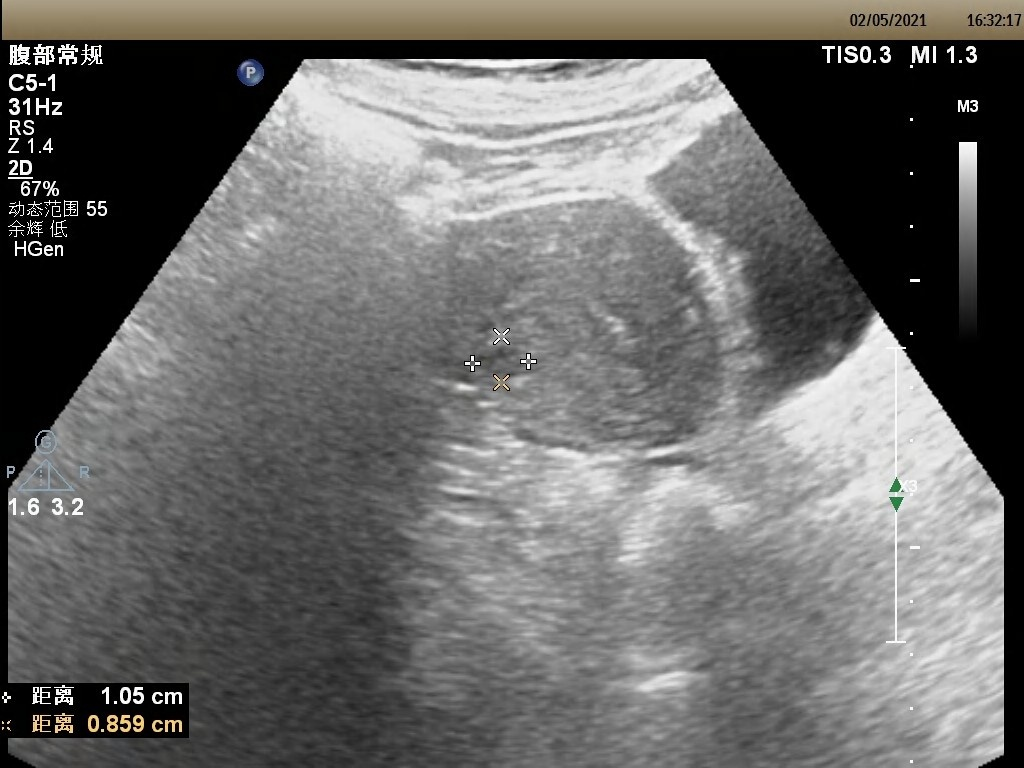肌瘤: (479, 348, 522, 380)
